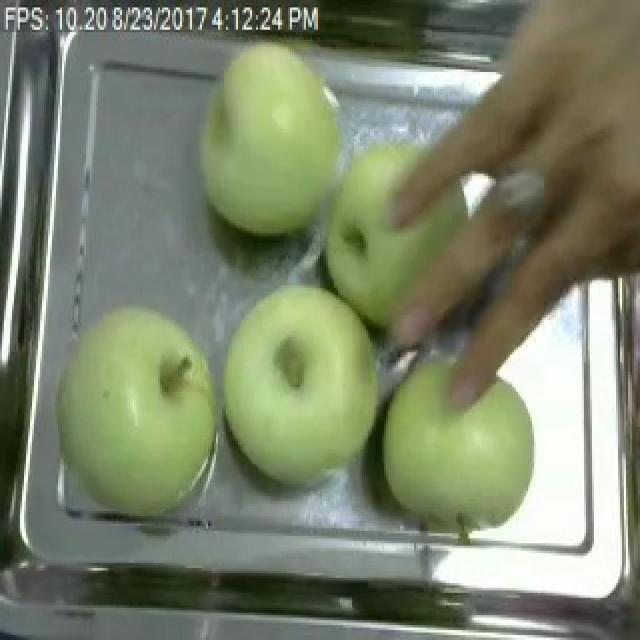50-_ripeness: (48, 279, 225, 536), (222, 283, 376, 493), (189, 33, 344, 240), (381, 369, 554, 538)
